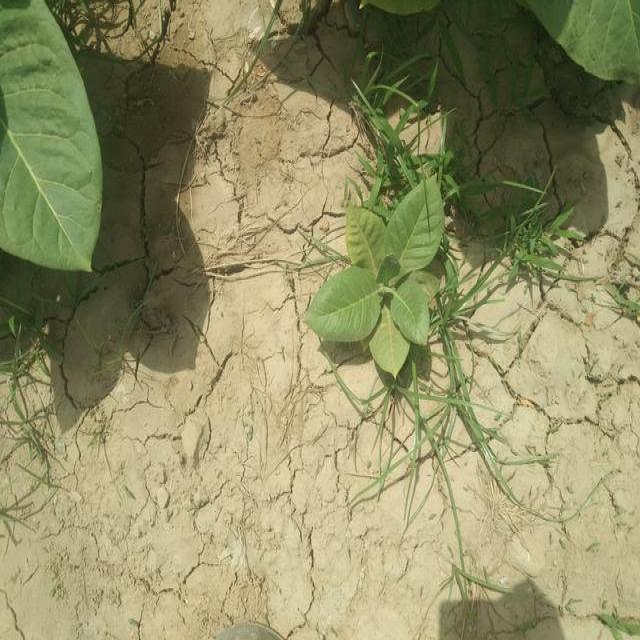crop: (322, 186, 443, 367), (530, 4, 640, 87)
